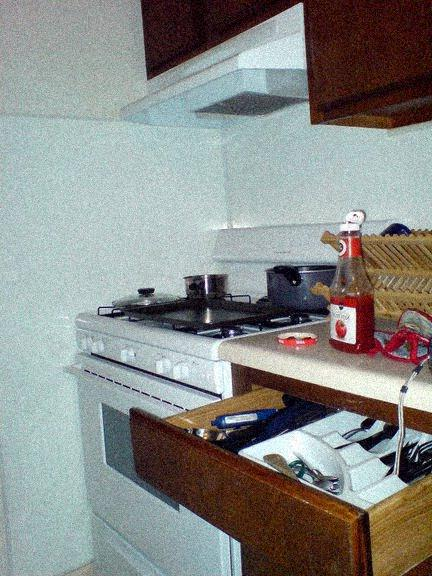Electrodomestico: (93, 328, 231, 567)
